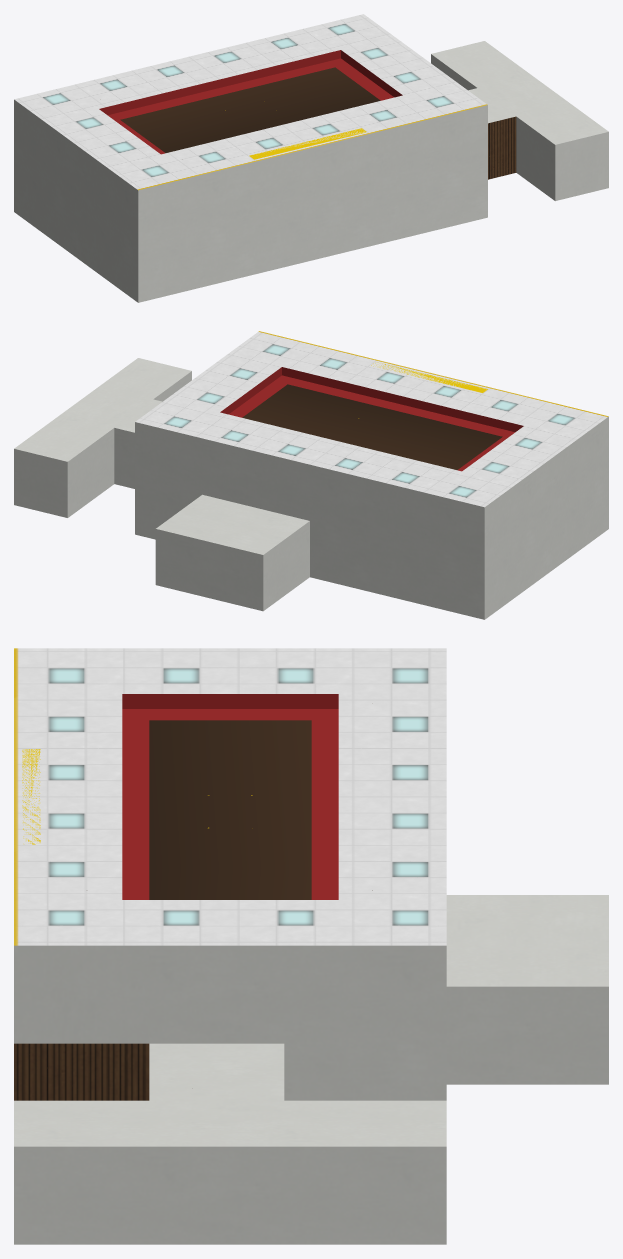
The model's file is Escenario 4.fbx.
The picture shows the model from 3 angles, top to bottom: view 1: azimuth 30°, elevation 25°; view 2: azimuth 150°, elevation 25°; view 3: azimuth 270°, elevation 25°; orthographic projection. The views are drawn at different scales.
Parts seen in each view (by area): view 1: Escenario 4; view 2: Escenario 4; view 3: Escenario 4.
Boxes of the visible parts, x1=… form: Escenario 4: x1=14, y1=14, x2=608, y2=302; Escenario 4: x1=14, y1=331, x2=608, y2=619; Escenario 4: x1=14, y1=648, x2=608, y2=1244.
Bounding box in the file's own units: 3500 × 800 × 2200.
